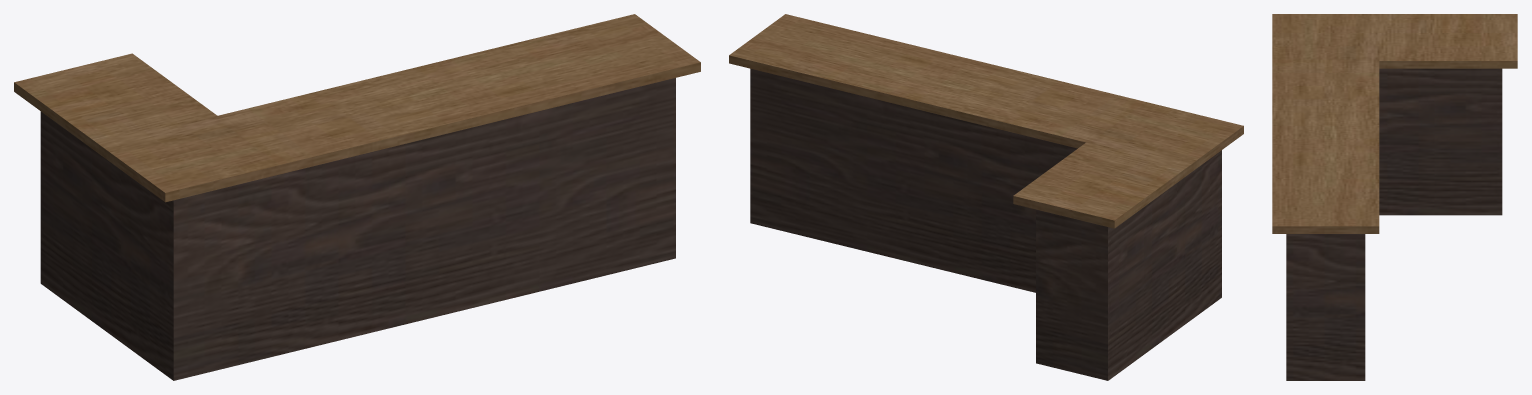
The model's file is checkout_counter.glb.
The picture shows the model from 3 angles, left to right: view 1: azimuth 30°, elevation 25°; view 2: azimuth 150°, elevation 25°; view 3: azimuth 270°, elevation 25°; orthographic projection. The views are drawn at different scales.
Visible parts, largest first — view 1: Cube.141; view 2: Cube.141; view 3: Cube.141.
Part boxes in pixels (bbox=[...]): Cube.141: bbox=[14, 14, 700, 380]; Cube.141: bbox=[729, 14, 1243, 380]; Cube.141: bbox=[1272, 14, 1517, 380].
Bounding box in the file's own units: 5.63 × 1.99 × 2.75.
2 materials, 2 textured.
